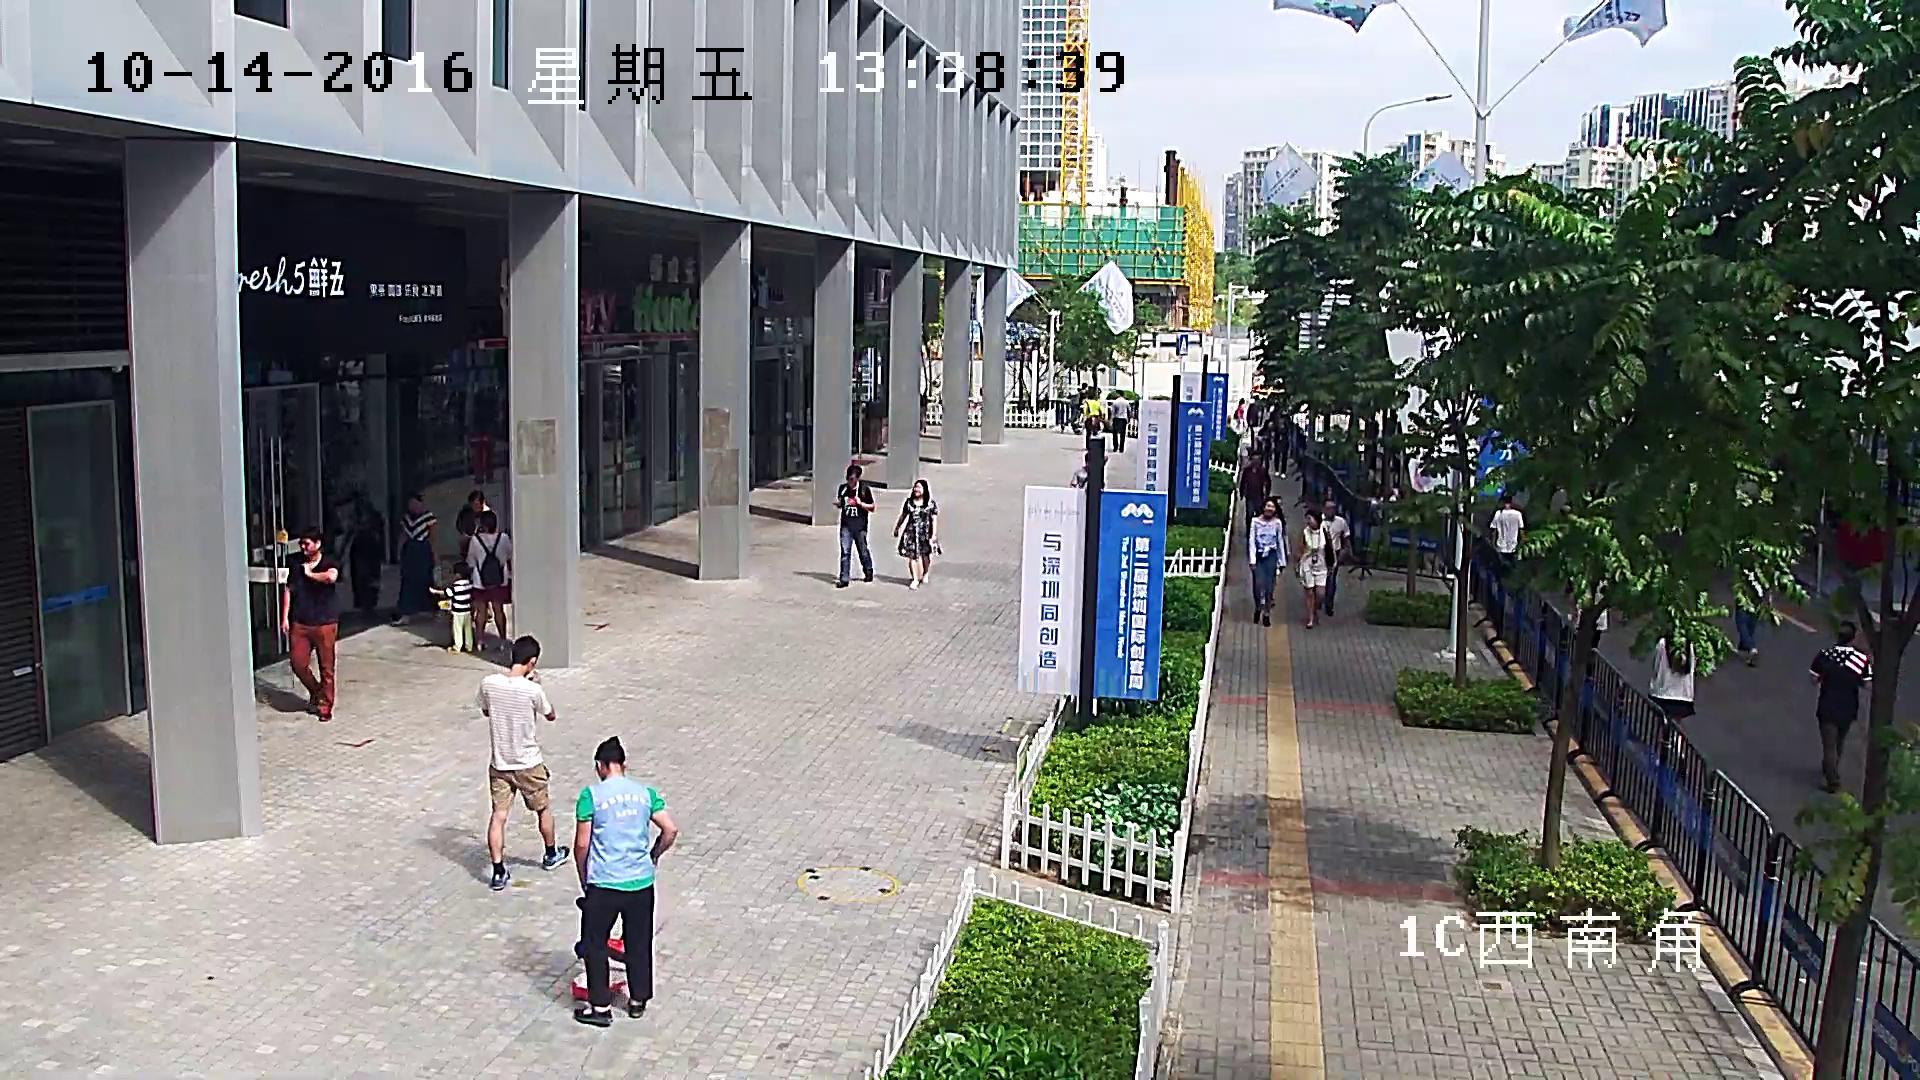person: (570, 734, 677, 1025), (574, 734, 677, 1026), (479, 635, 570, 890), (280, 527, 338, 722), (1808, 621, 1873, 791), (465, 510, 512, 653), (391, 494, 439, 627), (1650, 632, 1695, 767), (831, 464, 875, 588), (893, 479, 941, 588), (1292, 508, 1337, 627), (339, 498, 386, 611), (1734, 565, 1782, 666), (1247, 497, 1285, 626), (429, 560, 473, 654), (1568, 579, 1608, 678), (1320, 499, 1353, 615), (1240, 455, 1271, 536), (1489, 495, 1525, 561), (455, 489, 490, 555), (1112, 389, 1130, 452), (1083, 391, 1102, 449), (1272, 416, 1289, 478), (1256, 420, 1271, 469), (1072, 383, 1088, 431), (1246, 404, 1258, 449), (1233, 397, 1244, 426)
